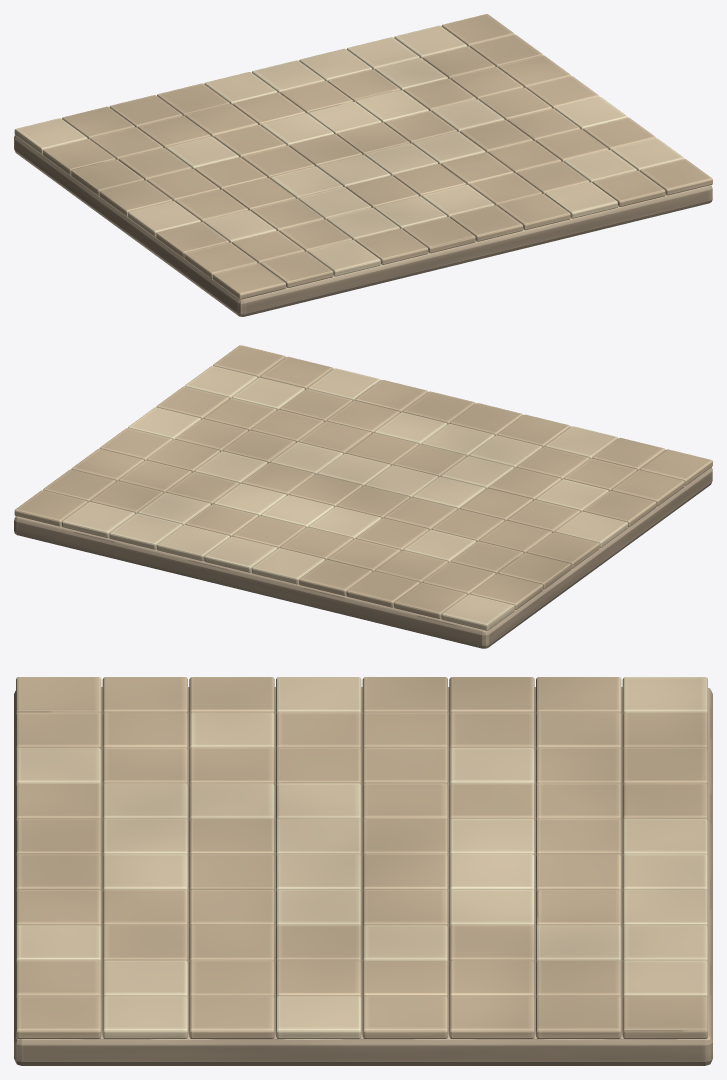
Rendered from 01_Floor_Base.fbx.
The picture shows the model from 3 angles, top to bottom: view 1: azimuth 30°, elevation 25°; view 2: azimuth 150°, elevation 25°; view 3: azimuth 270°, elevation 25°; orthographic projection. The views are drawn at different scales.
Parts seen in each view (by area): view 1: 01_Floor_Base; view 2: 01_Floor_Base; view 3: 01_Floor_Base.
Boxes of the visible parts, x1=… form: 01_Floor_Base: x1=14, y1=14, x2=712, y2=316; 01_Floor_Base: x1=14, y1=345, x2=712, y2=648; 01_Floor_Base: x1=14, y1=677, x2=712, y2=1065.
Bounding box in the file's own units: 600 × 30.5 × 500.
1 material, 1 textured.
